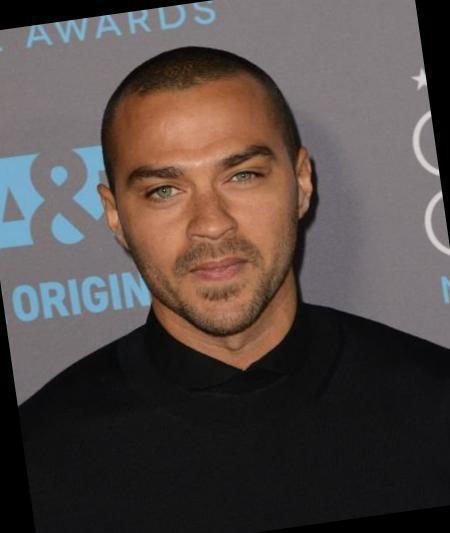Sober: (115, 99, 292, 317)
